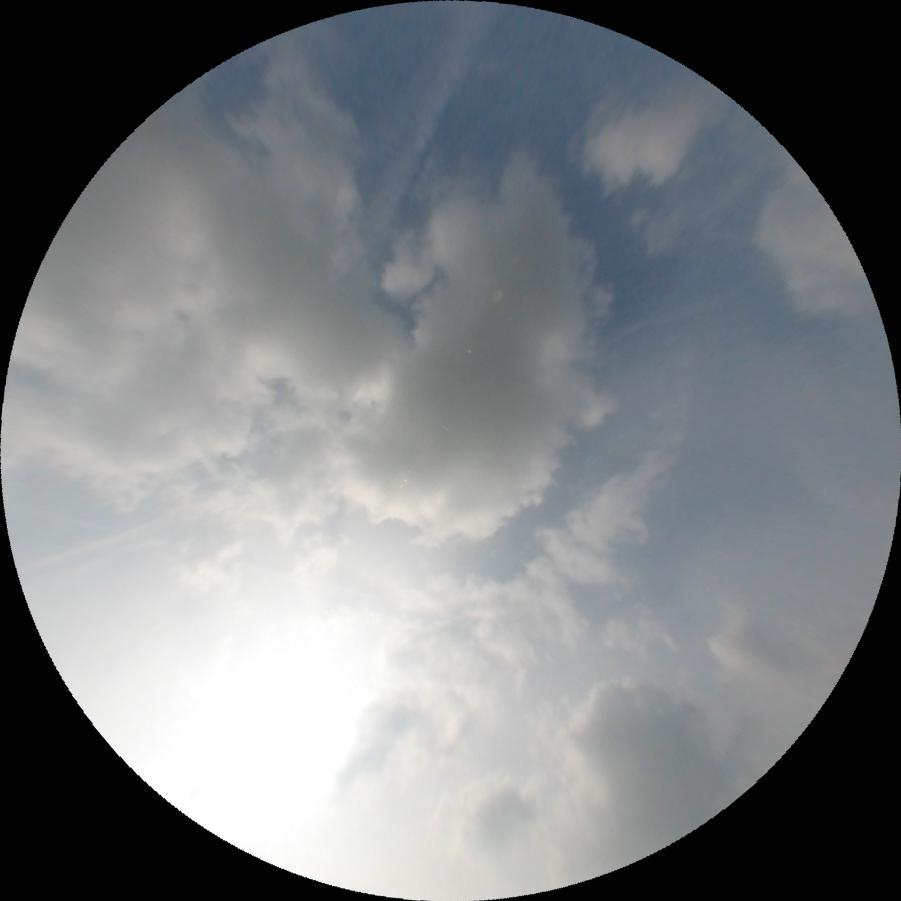contrail veryold: (335, 0, 510, 266)
contrail young: (10, 495, 128, 545)
sun: (134, 597, 406, 879)
unknow: (18, 511, 167, 573)
